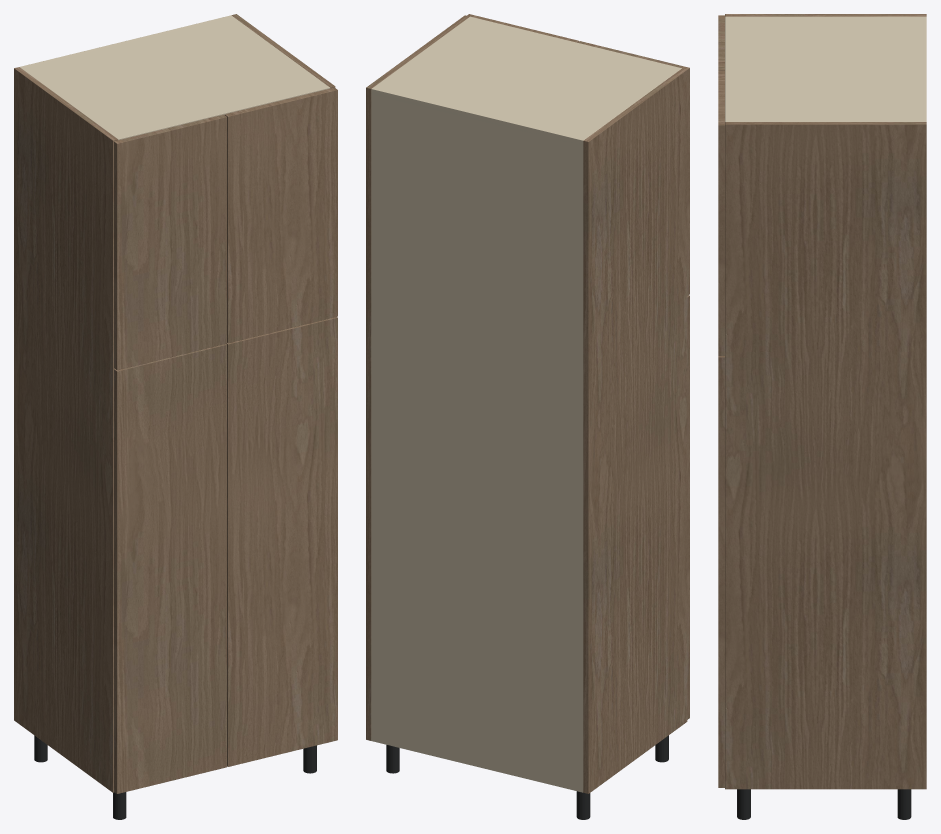
File: oppein-ply-mnw-pc3084.glb
3 views of the same model, side by side, from view 1: azimuth 30°, elevation 25°; view 2: azimuth 150°, elevation 25°; view 3: azimuth 270°, elevation 25° (orthographic).
Parts seen in each view (by area): view 1: Cabinet side, Door, Door.001, Door.002, Door.003, Cabinet top; view 2: Cabinet back, Cabinet side, Cabinet top, Cabinet side.001, Door, Door.002; view 3: Cabinet side.001, Cabinet top, Door.001, Door.003, Cabinet side, Cabinet back, Adjustable foot.002, Adjustable foot.003.
Part boxes in pixels (x1,y1,x2,y2): Cabinet side: [14, 67, 117, 792]; Door: [114, 344, 226, 793]; Door.001: [226, 317, 337, 766]; Door.002: [114, 114, 226, 370]; Door.003: [224, 87, 337, 343]; Cabinet top: [21, 16, 330, 140]; Cabinet back: [371, 87, 584, 792]; Cabinet side: [583, 68, 687, 793]; Cabinet top: [371, 16, 681, 144]; Cabinet side.001: [366, 15, 469, 740]; Door: [687, 295, 689, 719]; Door.002: [578, 41, 689, 295]; Cabinet side.001: [725, 122, 926, 789]; Cabinet top: [725, 16, 922, 121]; Door.001: [718, 356, 724, 787]; Door.003: [718, 70, 724, 355]; Cabinet side: [725, 14, 926, 16]; Cabinet back: [922, 16, 926, 121]; Adjustable foot.002: [897, 789, 911, 819]; Adjustable foot.003: [737, 789, 750, 819].
Size of the model in its own units: 0.762 by 2.25 by 0.6064.
Materials: 3 (1 with a texture image).
